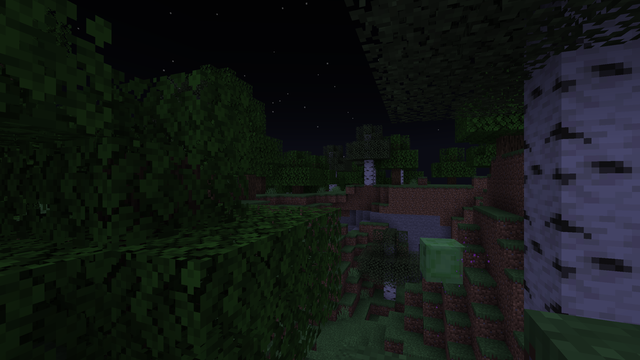slimes: (421, 235, 464, 283)
